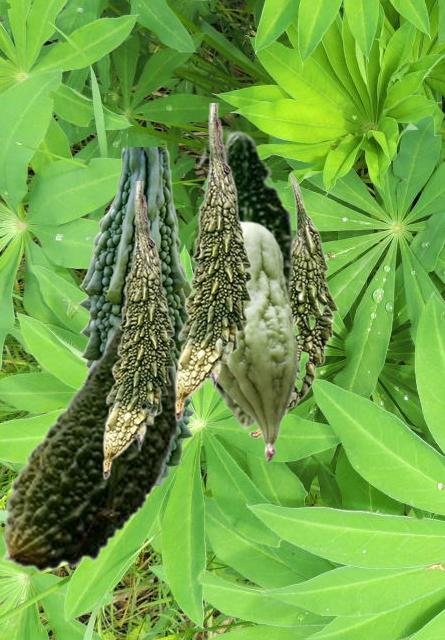ampalaya: (2, 312, 182, 572), (77, 147, 195, 484), (192, 126, 301, 431), (174, 103, 252, 421), (248, 171, 338, 437), (102, 181, 175, 479), (218, 220, 298, 461)
